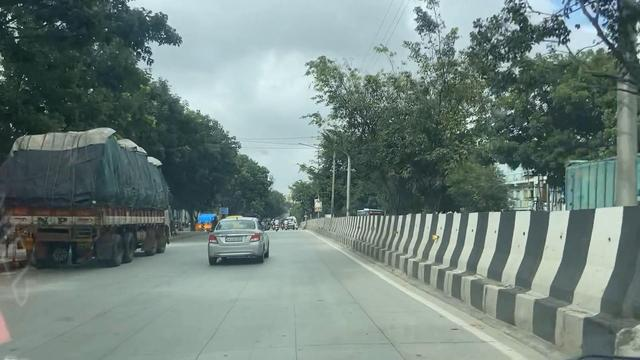HMV: (7, 132, 174, 275)
LMV: (209, 209, 269, 260)
